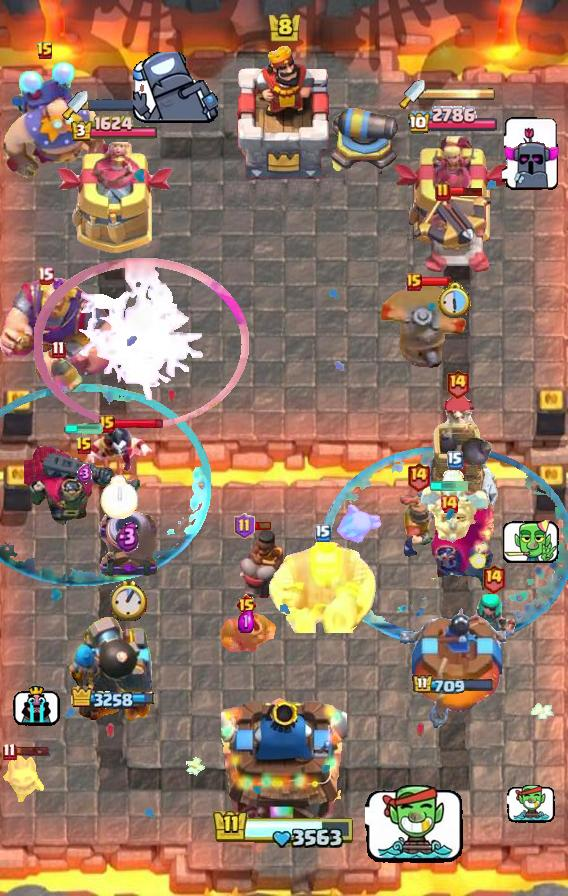bar: (391, 132, 515, 256), (55, 142, 173, 256)
barbarian-evolution: (35, 257, 249, 429)
bat: (337, 502, 387, 548)
clock: (212, 809, 356, 851)
dark-prince: (378, 285, 468, 371)
earthquake: (398, 493, 438, 547)
electro-spirit: (116, 520, 140, 551), (238, 610, 254, 633), (76, 464, 91, 484)
elite-barbarian: (234, 526, 286, 600)
elixir: (100, 475, 138, 519), (109, 580, 146, 621), (438, 281, 474, 319)
emote: (113, 417, 164, 430), (13, 745, 51, 757), (448, 187, 484, 198), (419, 276, 453, 287), (252, 521, 272, 532)
executioner: (33, 349, 83, 395)
flying-machine: (216, 610, 276, 664)
giant-skeleton: (268, 539, 378, 633)
goblin-cage: (96, 509, 160, 579)
ice-spirit: (64, 423, 104, 435), (429, 481, 469, 491)
inferno-tower: (24, 446, 144, 530), (404, 502, 494, 592)
king-tower: (221, 690, 347, 826), (230, 43, 338, 181)
king-tower-bar: (425, 87, 495, 101), (88, 99, 152, 111)
lava-pup: (414, 196, 496, 276)
lightning: (0, 277, 120, 383)
little-prince: (0, 59, 112, 179)
lumberjack: (81, 422, 157, 476)
mini-pekka: (417, 470, 493, 550)
mirror: (1, 750, 45, 804)
pad_0: (322, 445, 568, 647), (1, 384, 212, 590)
queen-tower: (400, 603, 506, 731)
royal-recruit: (328, 104, 402, 174)
selected: (407, 106, 499, 136), (69, 115, 158, 143), (71, 686, 157, 712), (413, 674, 496, 696)
skeleton: (364, 784, 463, 864), (133, 52, 218, 126), (503, 139, 562, 191), (503, 515, 562, 566), (504, 117, 558, 156), (12, 682, 59, 725), (507, 785, 555, 823)
text: (481, 562, 506, 593), (405, 461, 430, 491), (446, 368, 470, 399), (235, 593, 258, 617), (233, 513, 254, 539), (439, 494, 459, 514), (36, 41, 54, 61), (75, 436, 93, 456), (37, 267, 55, 286), (435, 182, 451, 202), (406, 273, 422, 291), (99, 415, 115, 433), (447, 451, 463, 469), (315, 524, 331, 542), (3, 743, 18, 762), (51, 341, 66, 359)
tower-bar: (64, 615, 164, 731)
witch: (469, 592, 517, 642)
zappy: (414, 392, 501, 530)
